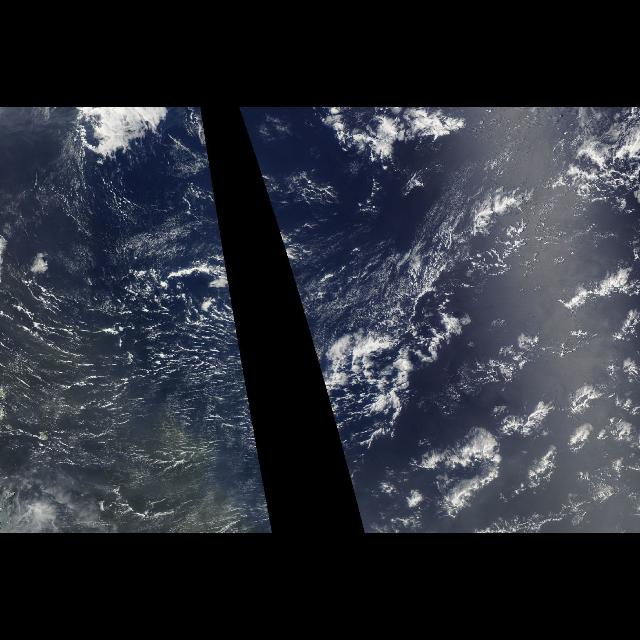Flower: (425, 292, 639, 528)
Sugar: (1, 157, 266, 533), (276, 162, 444, 428)
